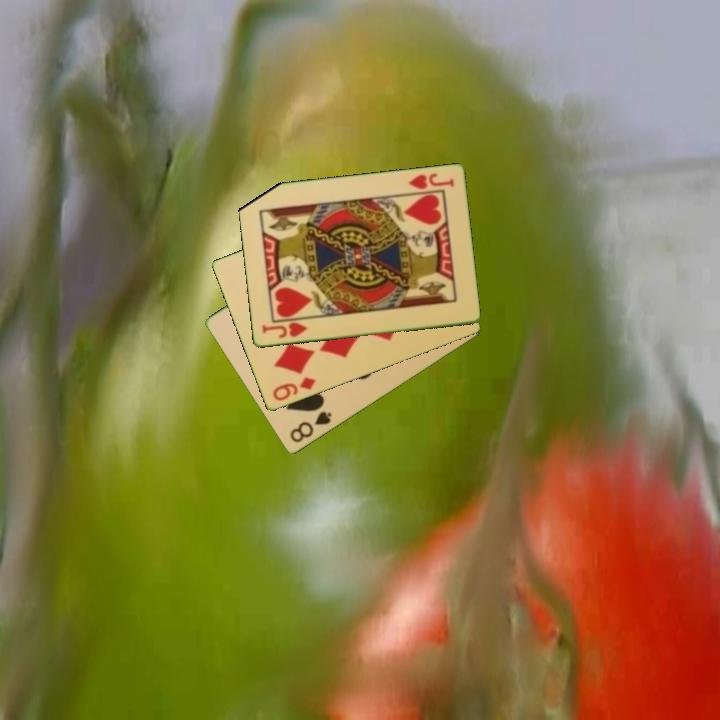8s: (286, 408, 335, 446)
9d: (269, 374, 318, 404)
Jh: (258, 319, 310, 341), (405, 170, 457, 192)
